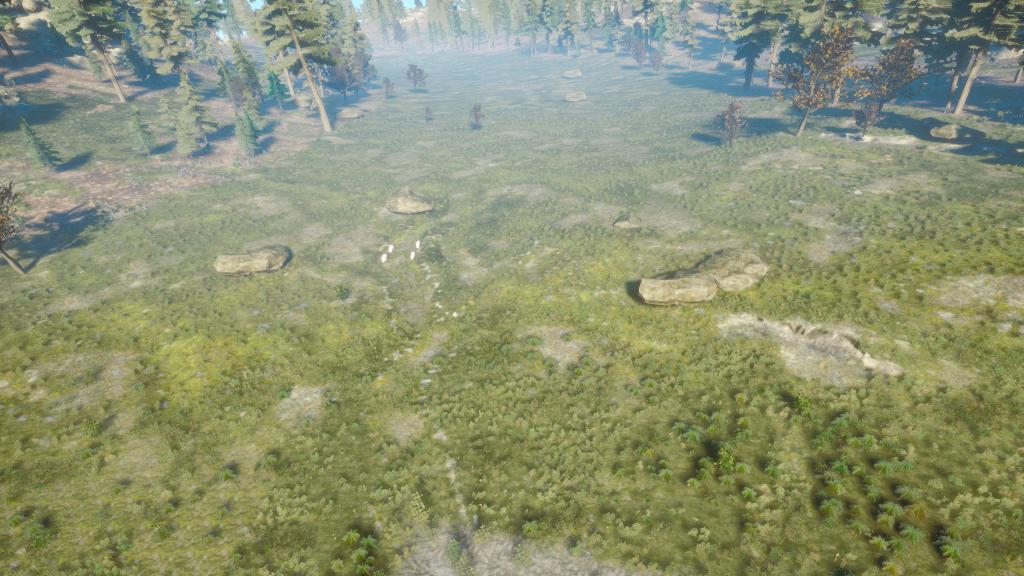pig: (383, 236, 399, 259), (379, 252, 392, 272), (409, 245, 419, 267), (415, 236, 422, 256)
